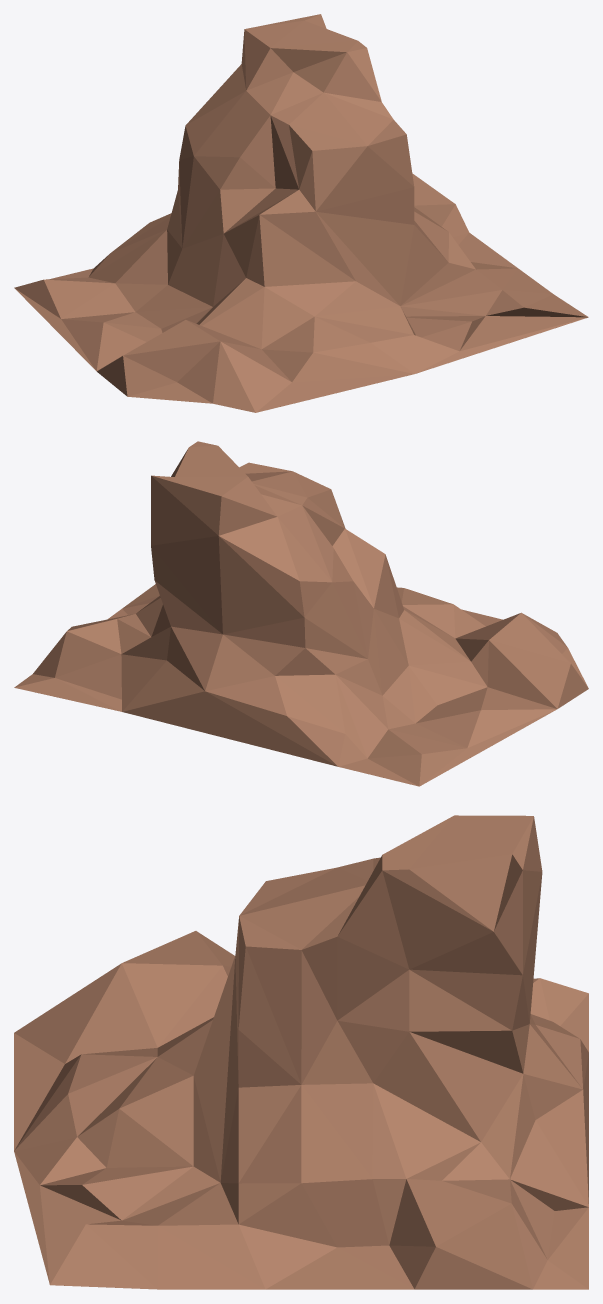
Rendered from 06 Mountain_2.FBX.
3 views of the same model, one above another, from view 1: azimuth 30°, elevation 25°; view 2: azimuth 150°, elevation 25°; view 3: azimuth 270°, elevation 25° (orthographic). The views are drawn at different scales.
Visible parts, largest first — view 1: Mountain_desert_001; view 2: Mountain_desert_001; view 3: Mountain_desert_001.
Part boxes in pixels (x1,y1,x2,y2): Mountain_desert_001: (14, 14, 588, 412); Mountain_desert_001: (14, 441, 588, 786); Mountain_desert_001: (14, 815, 588, 1289).
Bounding box in the file's own units: 4019 × 1997 × 3091.
